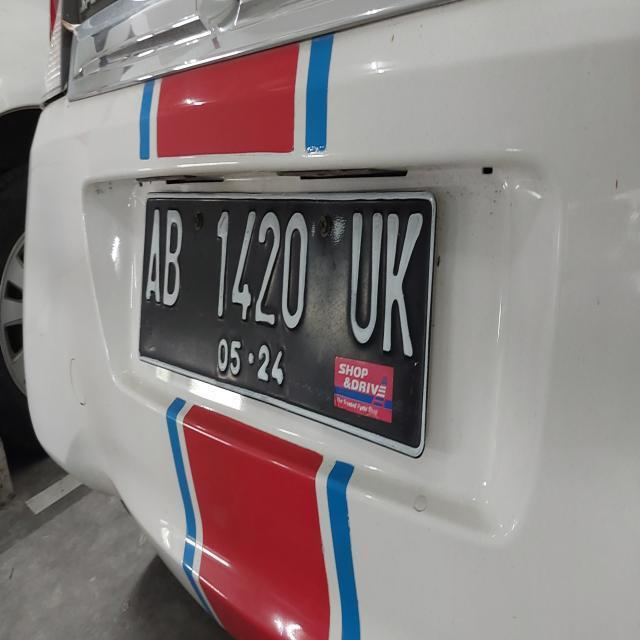0: (284, 208, 308, 331)
1: (214, 208, 229, 322)
2: (256, 210, 281, 327)
4: (232, 210, 255, 324)
A: (142, 206, 162, 310)
B: (162, 210, 182, 312)
K: (386, 210, 424, 359)
U: (347, 208, 384, 348)
